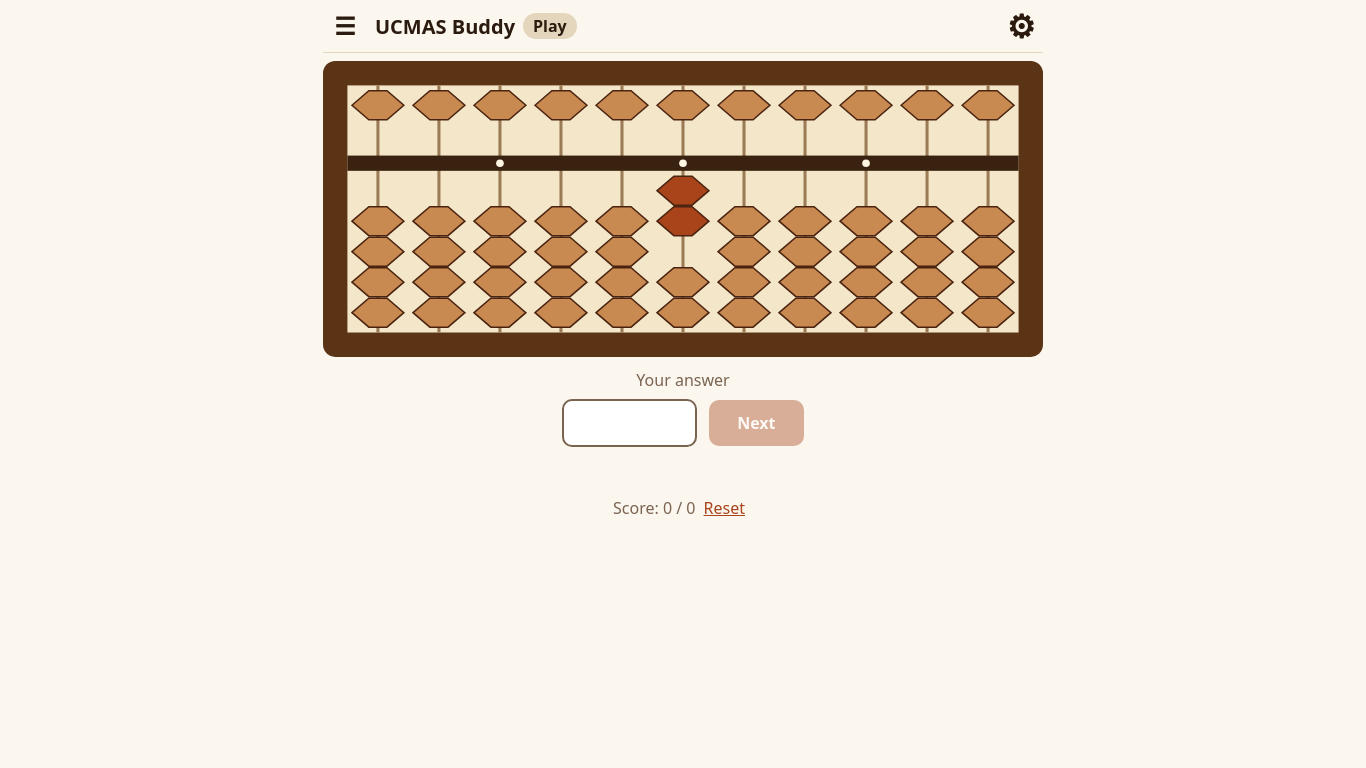
Scenario: <App> › vanish settings (AC5) › starts off, with the time slider hidden
Click the button named "open settings": coordinates (1021, 26) [999, 4, 1043, 48]
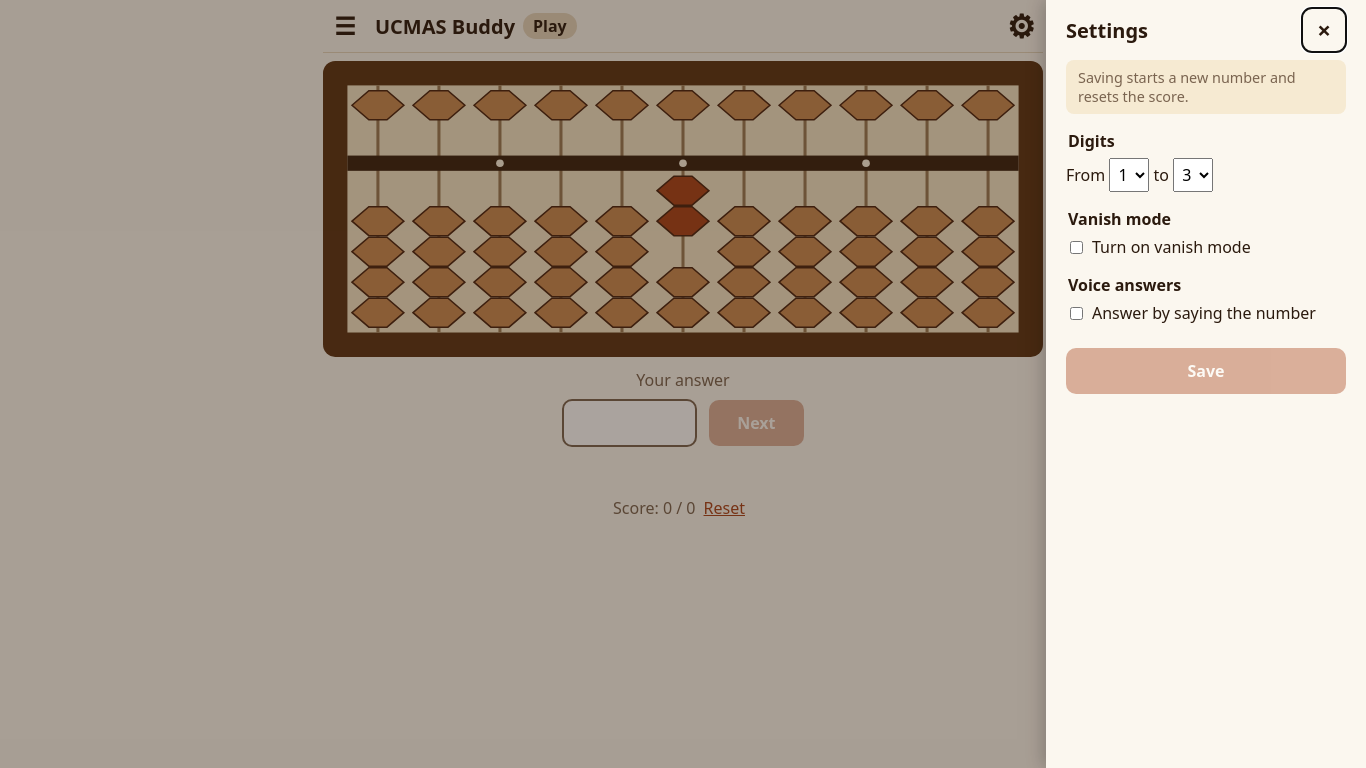
Expected: the checkbox labelled "Turn on vanish mode" is not checked, [1070, 240, 1083, 254]
